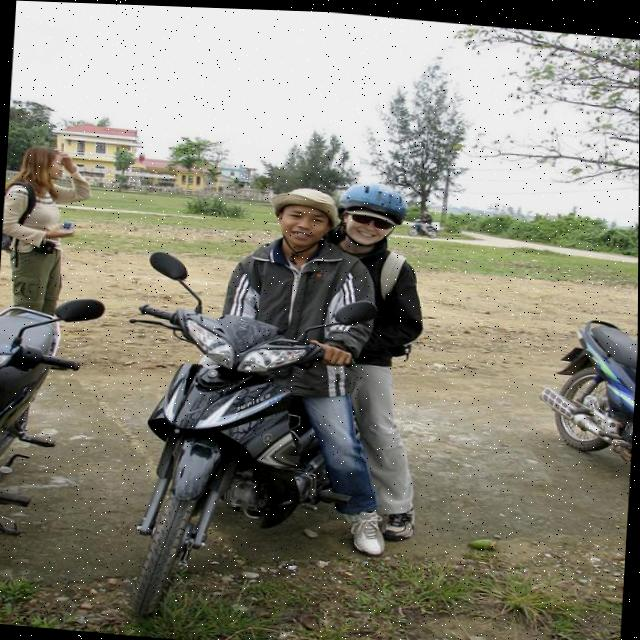motorcycle: (114, 240, 433, 640), (0, 277, 102, 551), (532, 301, 638, 475)
